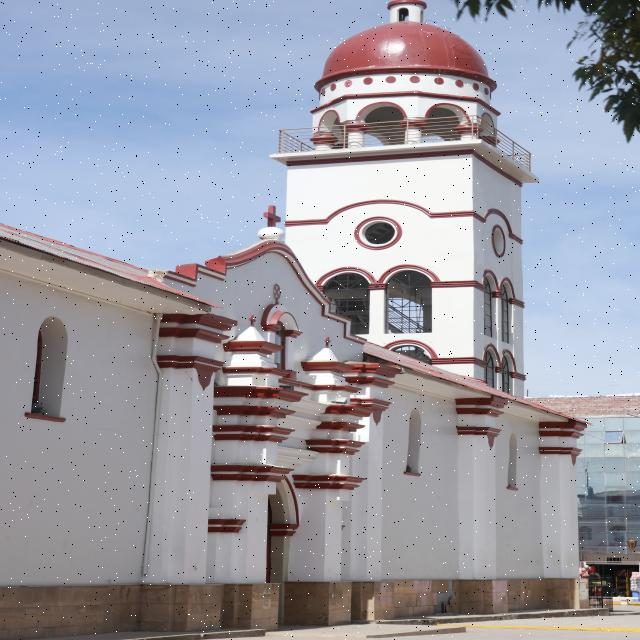CAMPANARIO: (233, 132, 574, 386)
CUPULA: (277, 0, 525, 147)
PORTADA CENTRAL: (146, 226, 382, 640)
colonial-architecture-: (0, 0, 640, 640)
